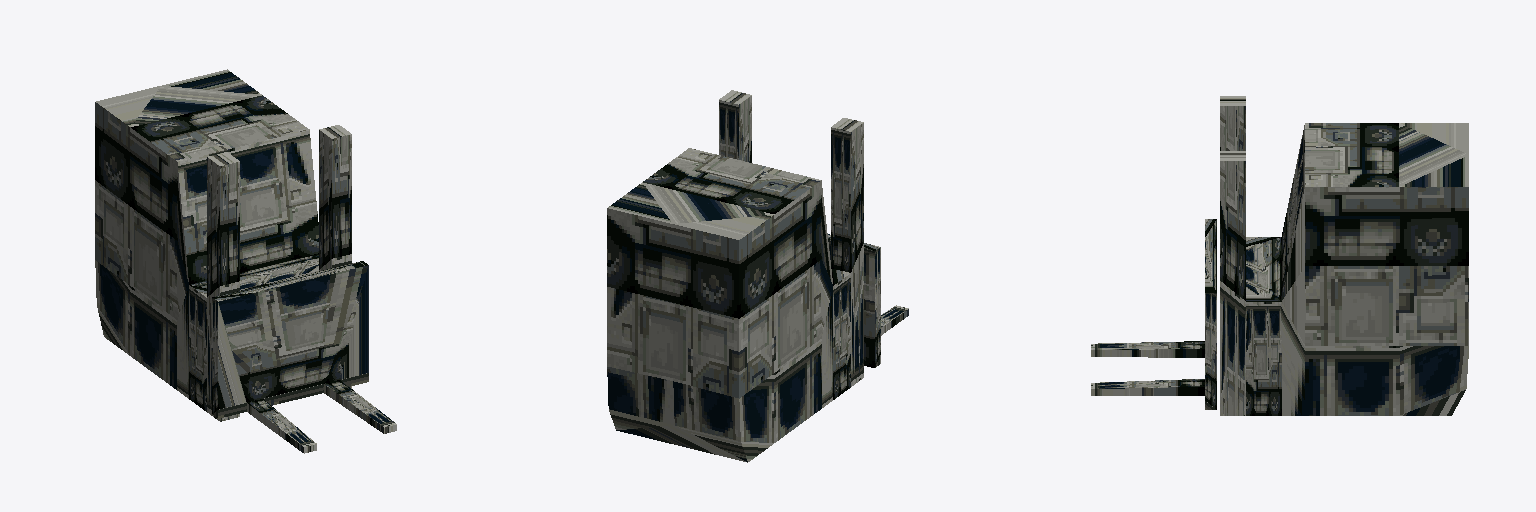
3 views of the same model, side by side, from view 1: azimuth 30°, elevation 25°; view 2: azimuth 150°, elevation 25°; view 3: azimuth 270°, elevation 25° (orthographic).
Bounding box in the file's own units: 0.0226 × 0.0366 × 0.0492.
1 materials, 1 textured.